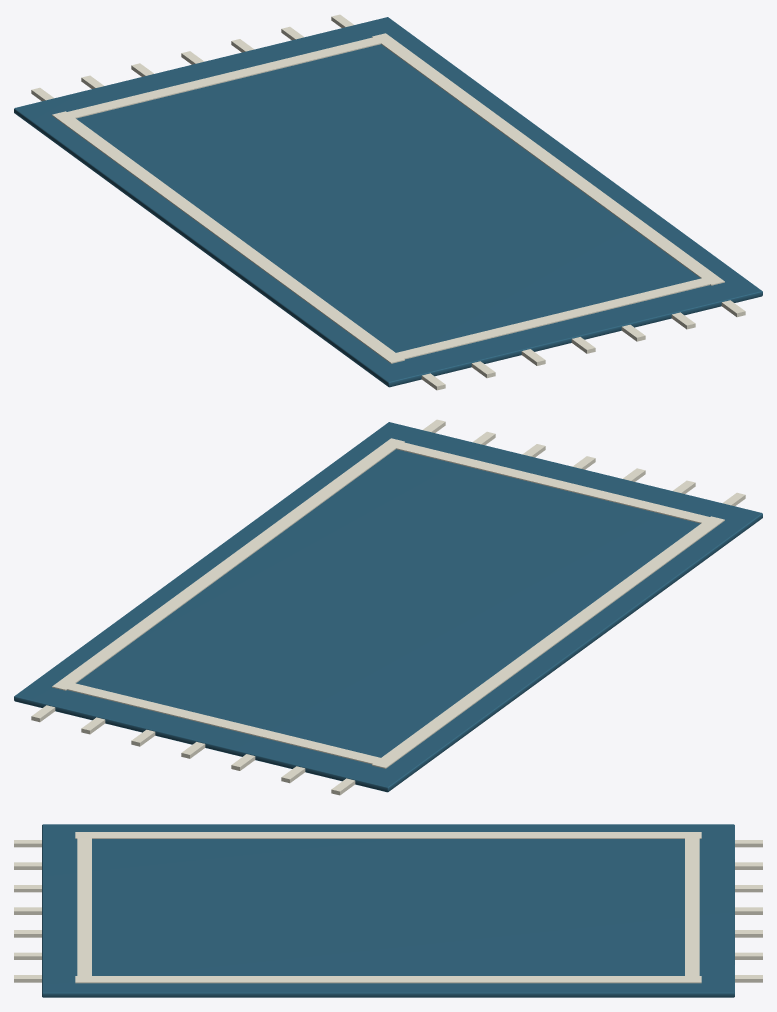
Rendered from home_rug.glb.
3 renders of one model, top to bottom at view 1: azimuth 30°, elevation 25°; view 2: azimuth 150°, elevation 25°; view 3: azimuth 270°, elevation 25°, orthographic. The views are drawn at different scales.
Visible parts, largest first — view 1: woven blue wool, woven long border; view 2: woven blue wool, woven long border; view 3: woven blue wool, woven long border.
Boxes of the visible parts, x1,y1,x2,y2 form: woven blue wool: [14, 17, 762, 387]; woven long border: [31, 14, 745, 390]; woven blue wool: [14, 422, 762, 792]; woven long border: [31, 419, 745, 795]; woven blue wool: [42, 824, 734, 997]; woven long border: [14, 832, 762, 983].
Size of the model in its own units: 1.5 by 0.027 by 2.81.
